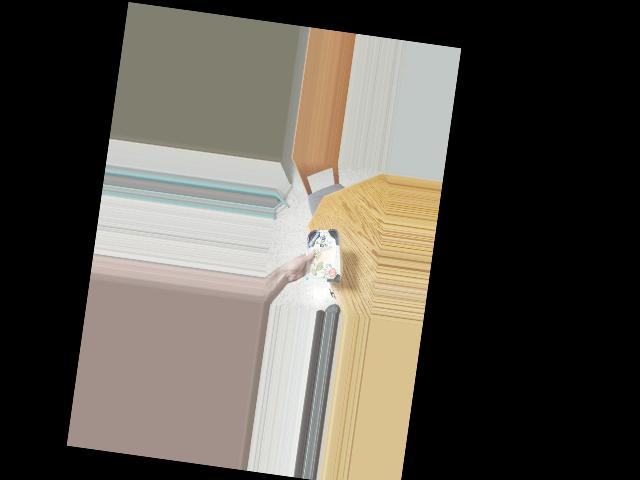cheese: (302, 224, 344, 277)
